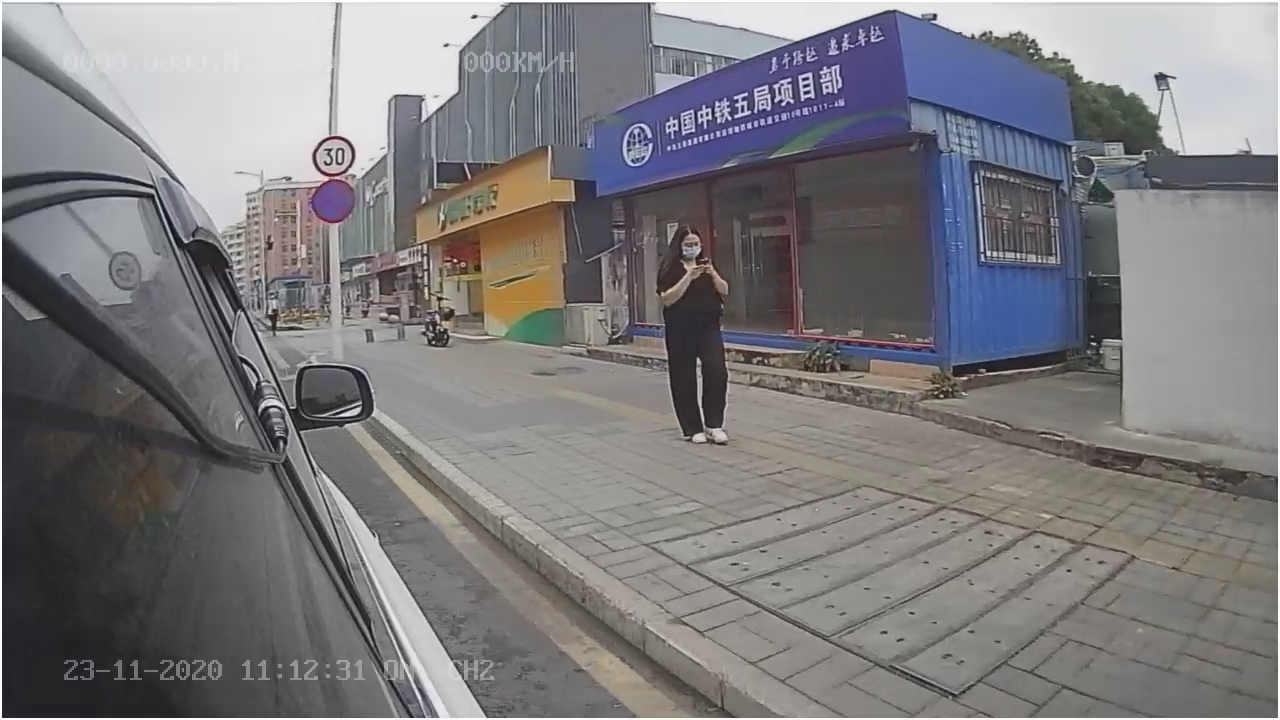person: (658, 222, 745, 448)
